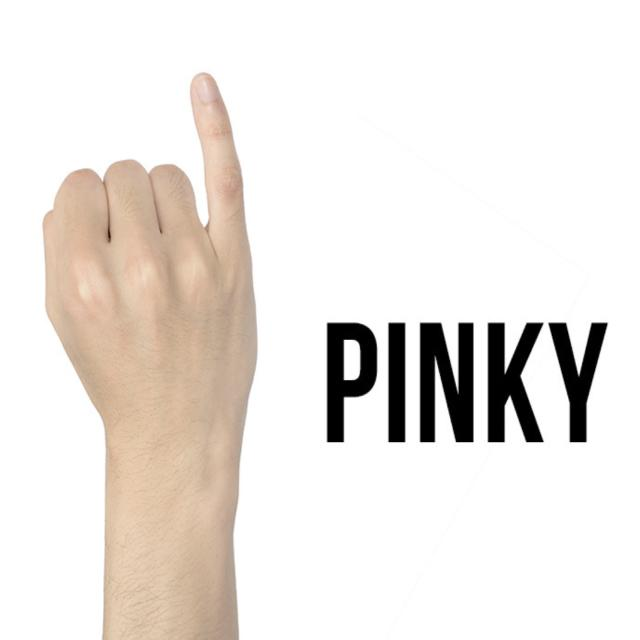pinky: (186, 53, 256, 252)
